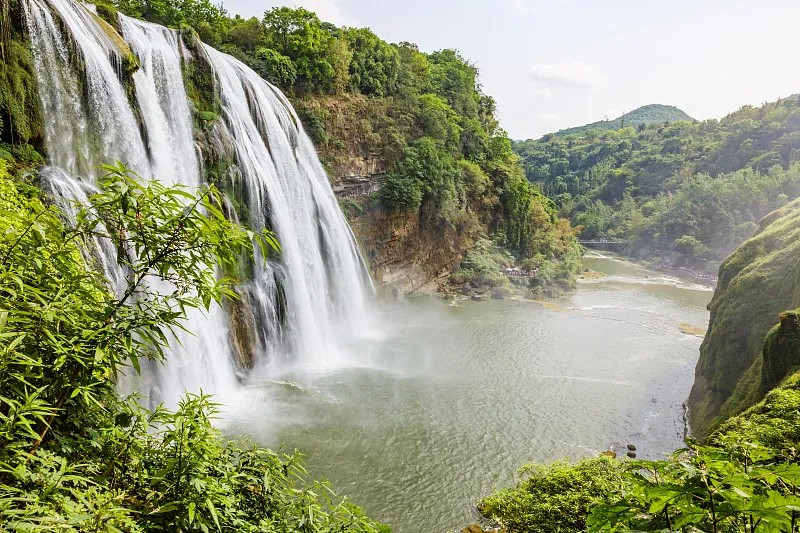Huangguoshu: (22, 1, 382, 425)
